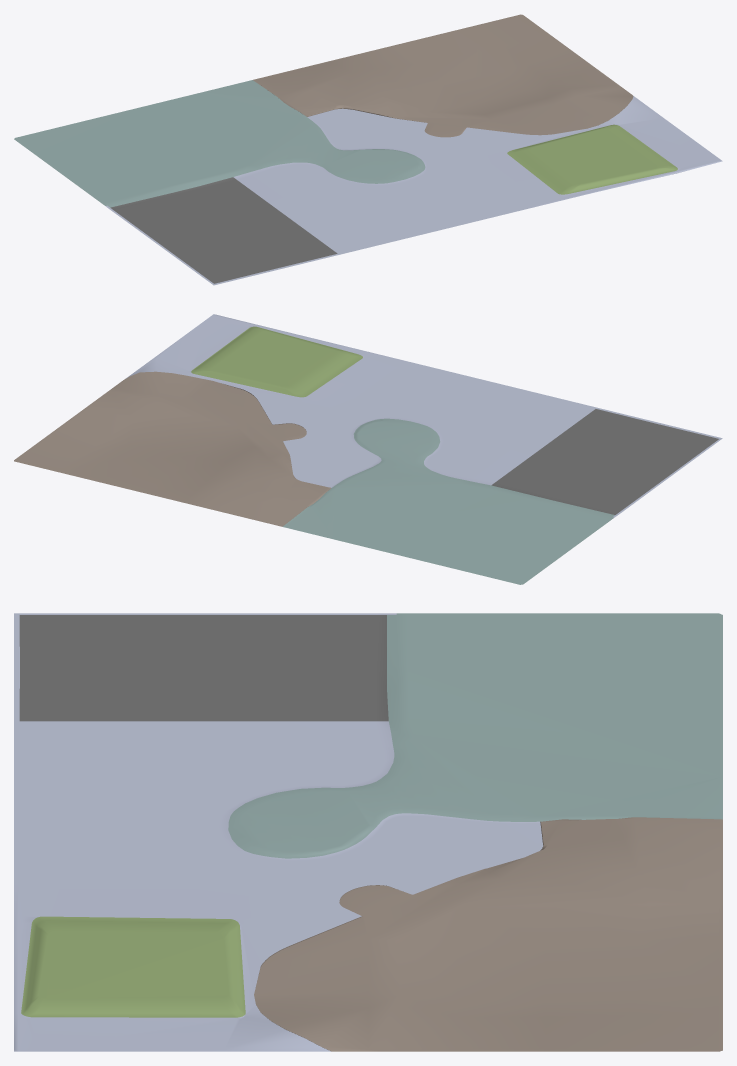
Rendered from ParkFloor.fbx.
The picture shows the model from 3 angles, top to bottom: view 1: azimuth 30°, elevation 25°; view 2: azimuth 150°, elevation 25°; view 3: azimuth 270°, elevation 25°; orthographic projection. The views are drawn at different scales.
Visible parts, largest first — view 1: pasted__pCube12; view 2: pasted__pCube12; view 3: pasted__pCube12.
Part boxes in pixels (x1,y1,x2,y2): pasted__pCube12: (14, 14, 722, 285); pasted__pCube12: (14, 314, 722, 584); pasted__pCube12: (14, 613, 722, 1051).
Bounding box in the file's own units: 20219 × 412 × 13814.
